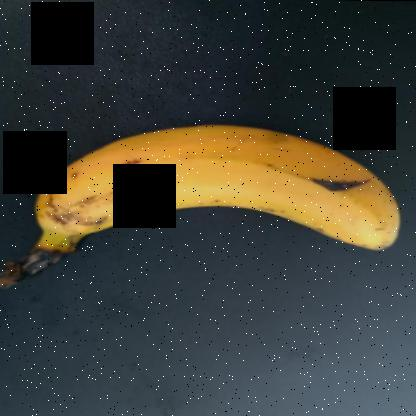ripe: (16, 100, 396, 276)
